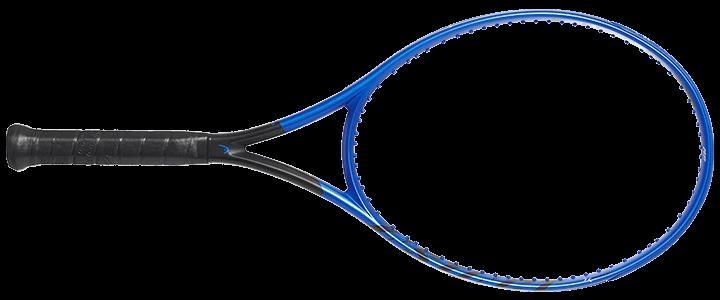Tennis-Racket: (7, 10, 713, 291)
